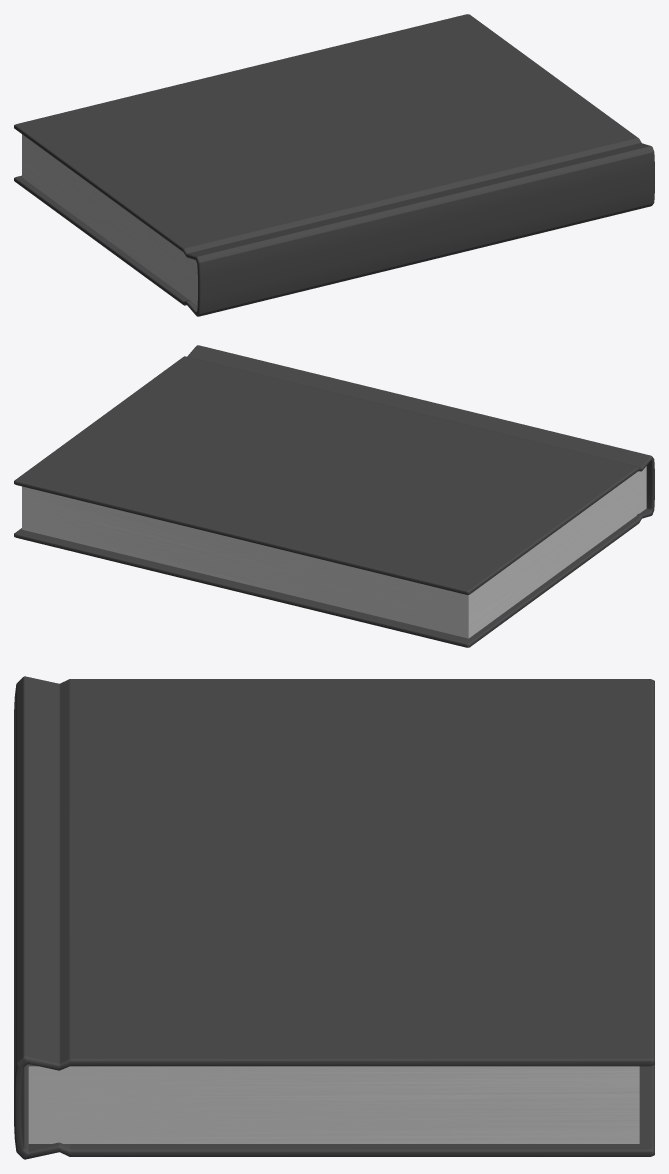
File: book.fbx
3 views of the same model, one above another, from view 1: azimuth 30°, elevation 25°; view 2: azimuth 150°, elevation 25°; view 3: azimuth 270°, elevation 25° (orthographic). The views are drawn at different scales.
Parts seen in each view (by area): view 1: book; view 2: book; view 3: book.
Part boxes in pixels (x1,y1,x2,y2): book: (14,14,654,316); book: (14,345,654,647); book: (14,676,654,1159).
Size of the model in its own units: 148 by 18.66 by 105.
Materials: 1 (1 with a texture image).
